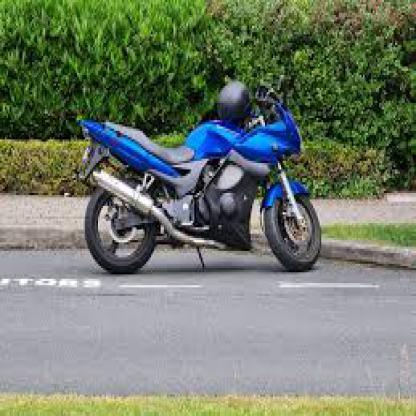Motorcycle: (72, 73, 326, 276)
